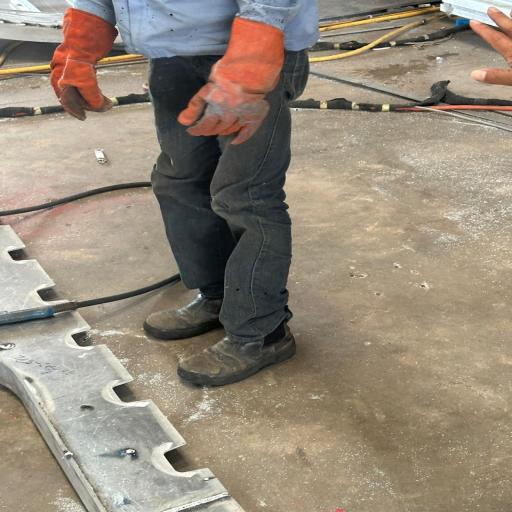safety_shoe: (173, 324, 305, 389), (132, 294, 229, 342)
